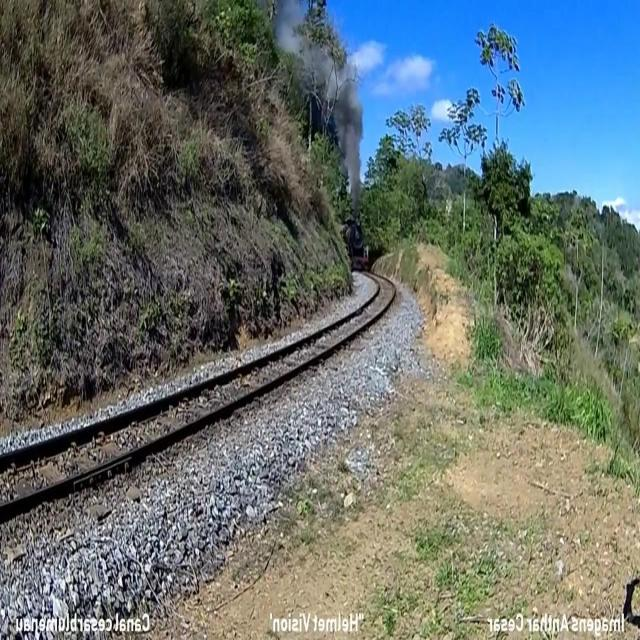Smoke: (332, 4, 360, 208), (276, 5, 329, 94)
